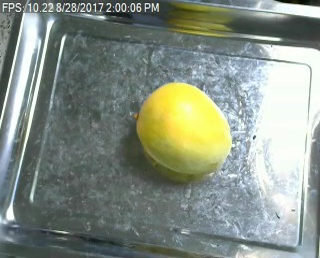Mango: (130, 81, 237, 175)
